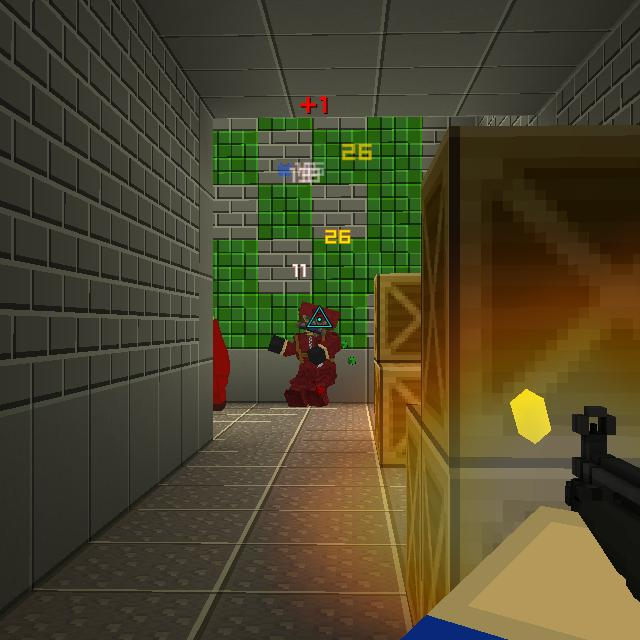enemy: (213, 314, 231, 412)
